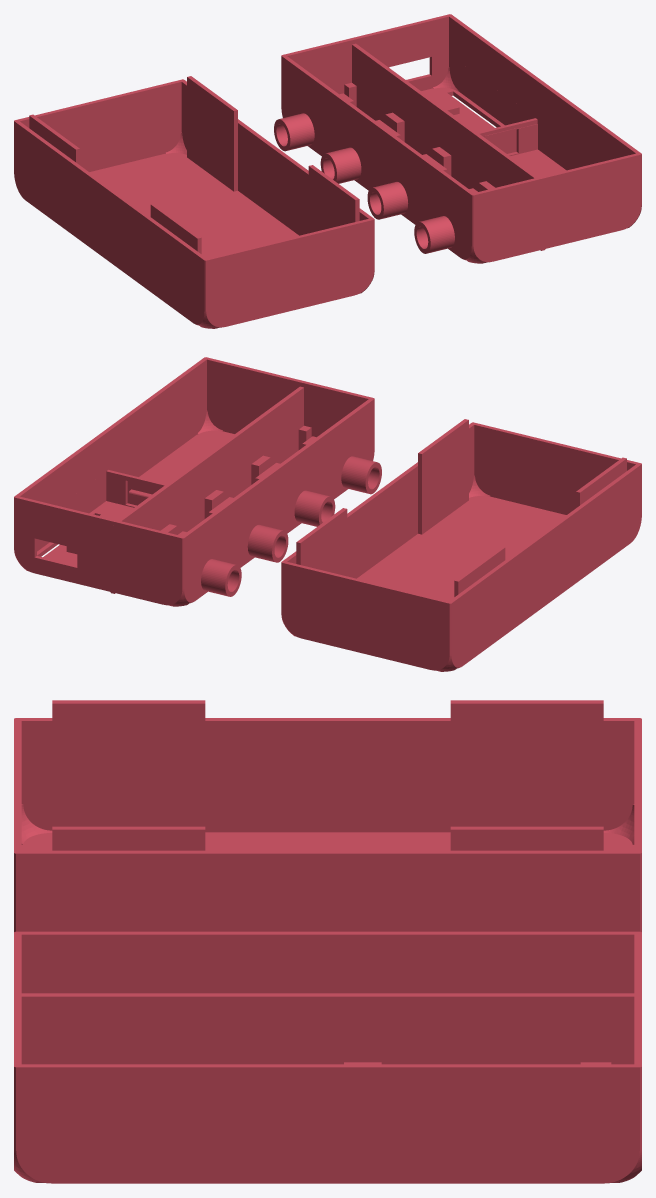
File: sip_puff_full.glb
3 renders of one model, top to bottom at view 1: azimuth 30°, elevation 25°; view 2: azimuth 150°, elevation 25°; view 3: azimuth 270°, elevation 25°, orthographic. The views are drawn at different scales.
Parts seen in each view (by area): view 1: Mesh_Mesh_head_geo.001_lambert2SG.001; view 2: Mesh_Mesh_head_geo.001_lambert2SG.001; view 3: Mesh_Mesh_head_geo.001_lambert2SG.001.
Part boxes in pixels (<box>): Mesh_Mesh_head_geo.001_lambert2SG.001: <box>14,14,641,328</box>; Mesh_Mesh_head_geo.001_lambert2SG.001: <box>14,357,641,671</box>; Mesh_Mesh_head_geo.001_lambert2SG.001: <box>14,700,641,1183</box>.
Bounding box in the file's own units: 108 × 20 × 82.
